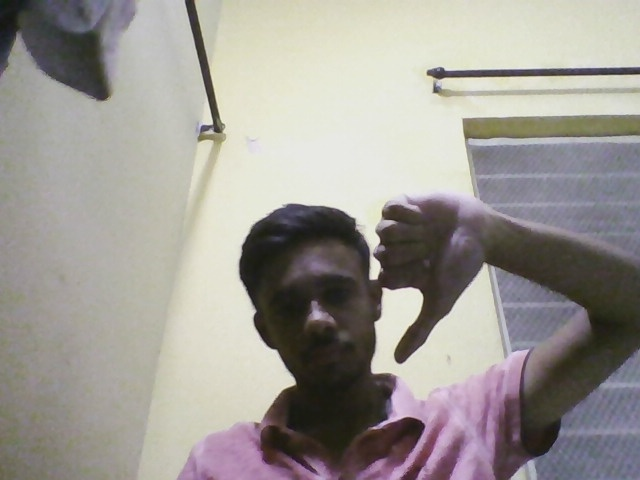no: (362, 155, 503, 381)
